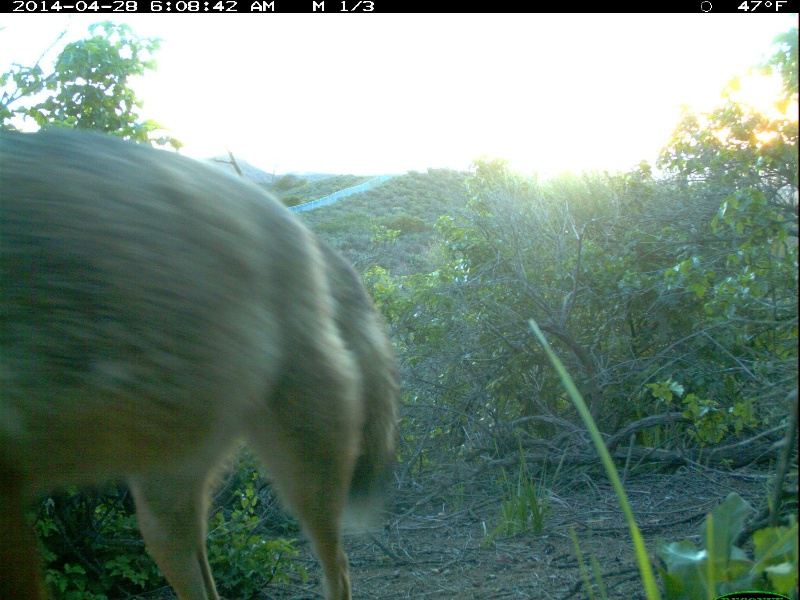coyote: (5, 119, 394, 600)
